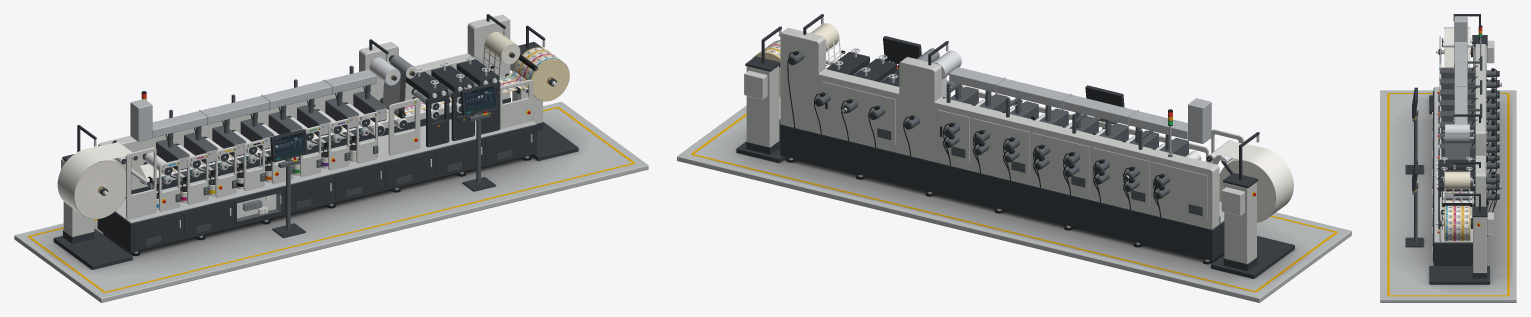
Rendered from flexo.glb.
3 renders of one model, left to right at view 1: azimuth 30°, elevation 25°; view 2: azimuth 150°, elevation 25°; view 3: azimuth 270°, elevation 25°, orthographic. The views are drawn at different scales.
Visible parts, largest first — view 1: socle, bati_tole_anthracite, mur_tole_gris_clair, bati_inferieur, extraction_tole_galvanisee, rotatif_1, bati_plateau, derouleur_tole_anthracite, bande, rotatif_57, rembobineur_tole_anthracite, entree_flasque (+36 smaller); view 2: mur_tole_gris_clair, socle, bati_inferieur, extraction_tole_galvanisee, rotatif_1, rembobineur_tole_gris_clair, derouleur_tole_gris_clair, derouleur_tole_anthracite, rembobineur_tole_anthracite, mur_graphite, pupitre_decoupe_tole_anthracite, bande (+13 smaller); view 3: socle, mur_tole_gris_clair, extraction_tole_galvanisee, rembobineur_tole_anthracite, bati_inferieur, rotatif_57, bati_plateau, rembobineur_tole_gris_clair, bande, rotatif_54, dorure_film_retour, groupe_1_graphite (+24 smaller).
Part boxes in pixels (x1=…): socle: x1=14, y1=102, x2=648, y2=302; bati_tole_anthracite: x1=134, y1=128, x2=533, y2=248; mur_tole_gris_clair: x1=98, y1=14, x2=510, y2=190; bati_inferieur: x1=97, y1=124, x2=536, y2=252; extraction_tole_galvanisee: x1=130, y1=69, x2=376, y2=141; rotatif_1: x1=57, y1=149, x2=125, y2=219; bati_plateau: x1=115, y1=114, x2=536, y2=223; derouleur_tole_anthracite: x1=53, y1=125, x2=132, y2=269; bande: x1=85, y1=45, x2=528, y2=179; rotatif_57: x1=514, y1=47, x2=569, y2=101; rembobineur_tole_anthracite: x1=518, y1=25, x2=578, y2=160; entree_flasque: x1=126, y1=147, x2=156, y2=219; mur_tole_gris_clair: x1=780, y1=28, x2=1219, y2=229; socle: x1=677, y1=96, x2=1351, y2=302; bati_inferieur: x1=780, y1=124, x2=1224, y2=260; extraction_tole_galvanisee: x1=949, y1=67, x2=1211, y2=143; rotatif_1: x1=1219, y1=148, x2=1293, y2=222; rembobineur_tole_gris_clair: x1=744, y1=66, x2=779, y2=147; derouleur_tole_gris_clair: x1=1221, y1=182, x2=1256, y2=263; derouleur_tole_anthracite: x1=1211, y1=132, x2=1294, y2=278; rembobineur_tole_anthracite: x1=736, y1=26, x2=786, y2=162; mur_graphite: x1=877, y1=128, x2=1202, y2=216; pupitre_decoupe_tole_anthracite: x1=883, y1=36, x2=921, y2=64; bande: x1=826, y1=37, x2=1264, y2=164; socle: x1=1380, y1=90, x2=1516, y2=302; mur_tole_gris_clair: x1=1475, y1=44, x2=1486, y2=206; extraction_tole_galvanisee: x1=1454, y1=16, x2=1467, y2=124; rembobineur_tole_anthracite: x1=1429, y1=193, x2=1489, y2=284; bati_inferieur: x1=1433, y1=88, x2=1472, y2=265; rotatif_57: x1=1444, y1=205, x2=1470, y2=241; bati_plateau: x1=1434, y1=87, x2=1473, y2=242; rembobineur_tole_gris_clair: x1=1473, y1=212, x2=1494, y2=272; bande: x1=1444, y1=29, x2=1470, y2=202; rotatif_54: x1=1444, y1=171, x2=1470, y2=189; dorure_film_retour: x1=1445, y1=143, x2=1469, y2=159; groupe_1_graphite: x1=1438, y1=67, x2=1497, y2=101.
Size of the model in its own units: 8.35 by 2.04 by 2.3.
Materials: 52 (15 with a texture image).
